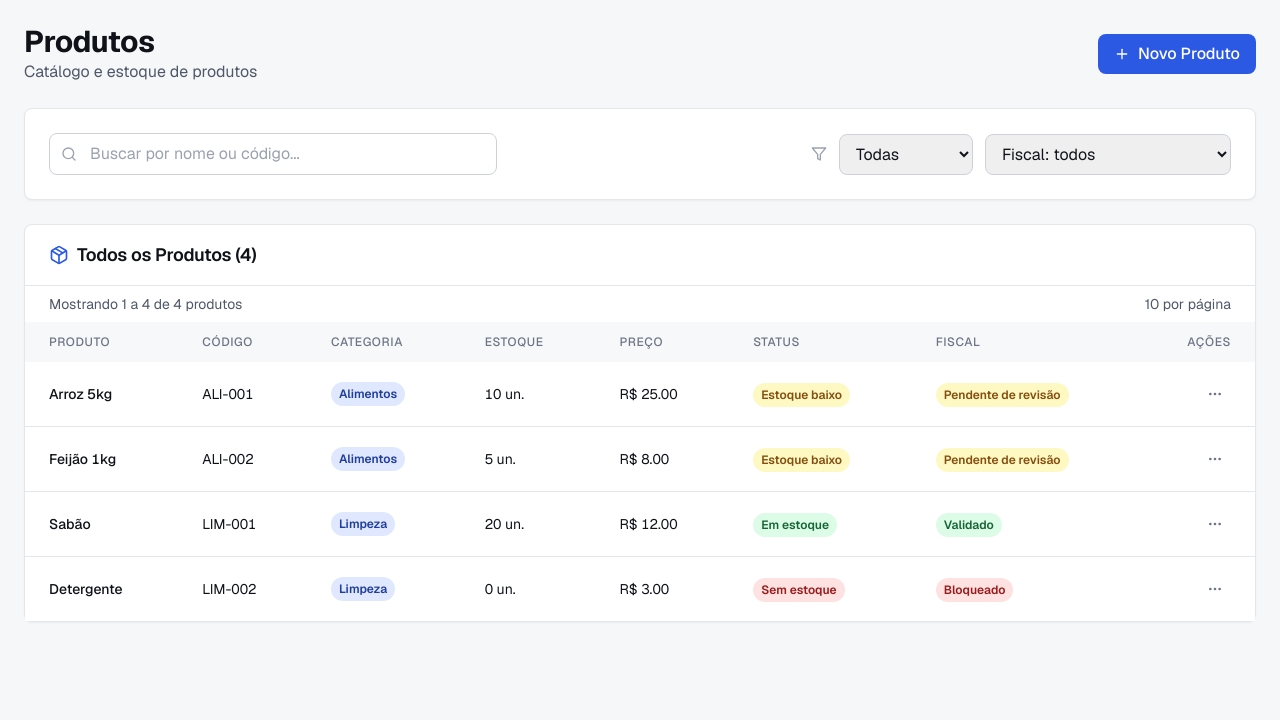
Test case: Produtos — pesquisa sem perda de foco › 7. A pesquisa filtra os produtos corretamente enquanto digita
The width and height of the screenshot is (1280, 720).
Type "arroz" into the field with placeholder "Buscar por nome ou código..." at x=273, y=154, box [49, 133, 497, 175]
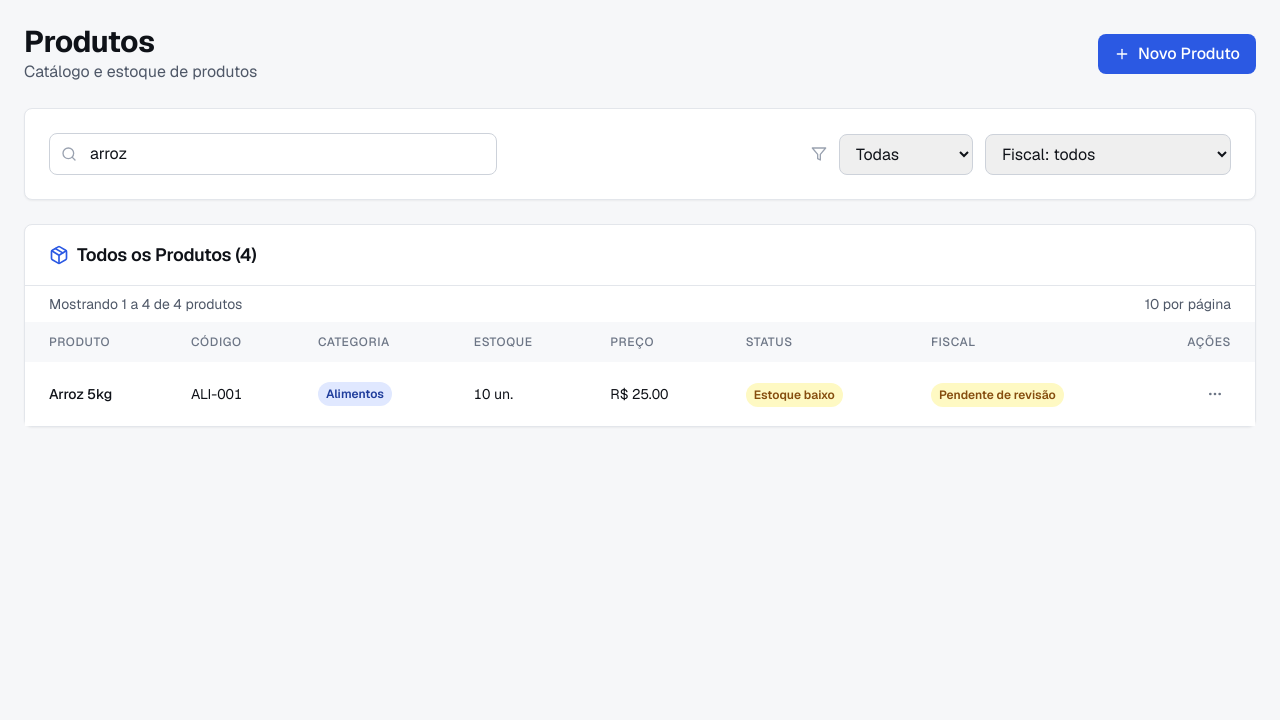
Now the text "Feijão 1kg" is gone
Now the text "Sabão" is gone
Now the text "Detergente" is gone
